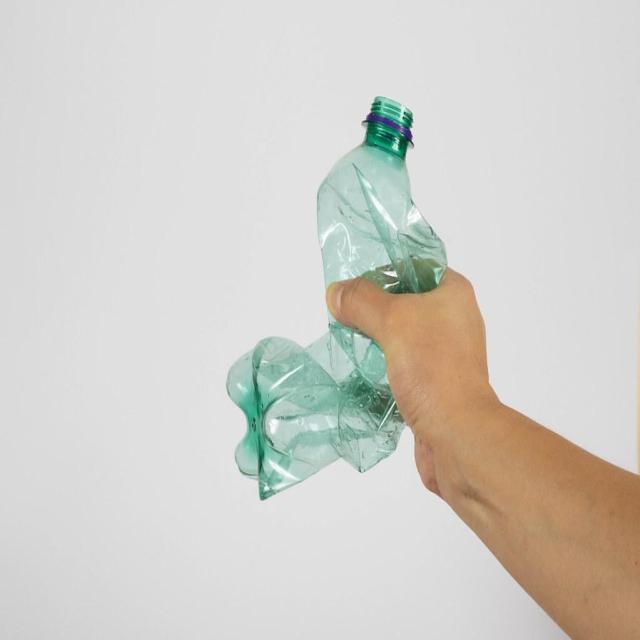bottle: (220, 81, 452, 526)
